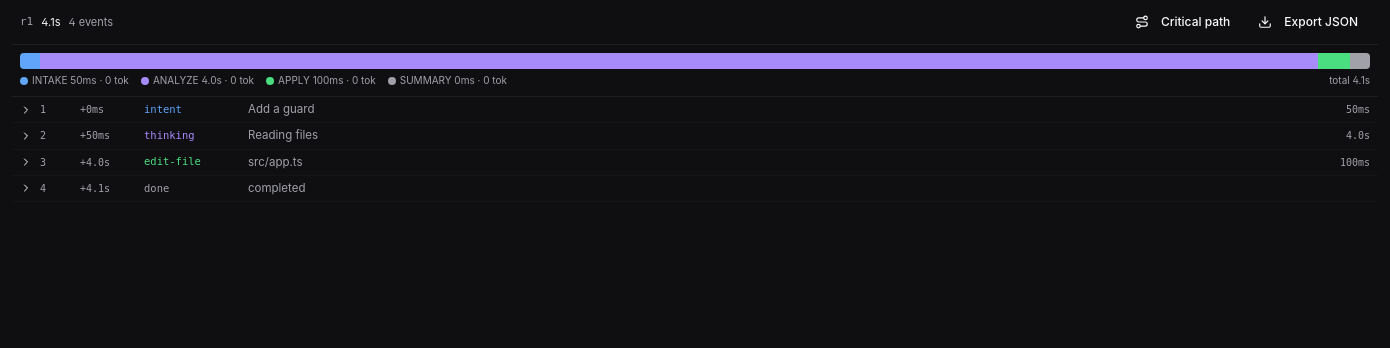
Test: RunTracePanel › expands an event to its full JSON payload
Click the text "Add a guard".
click(281, 109)  # box [248,102,314,116]
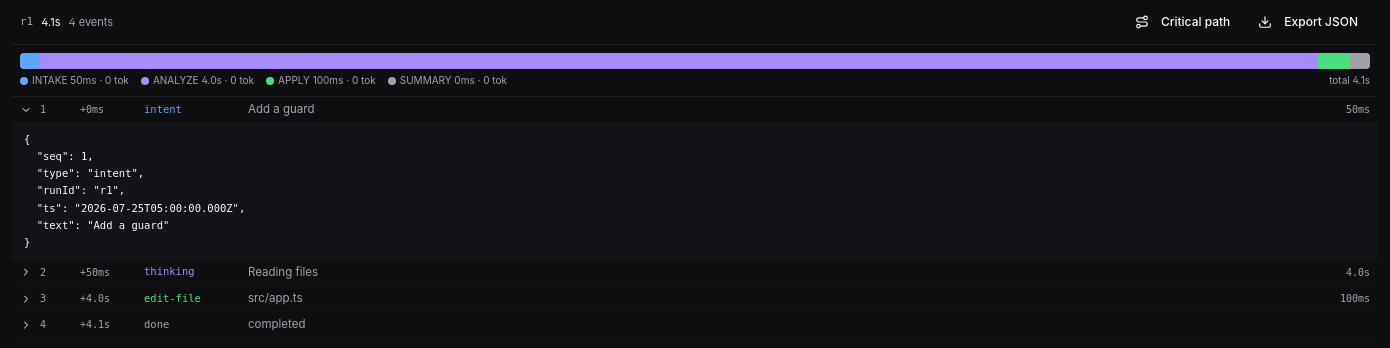
Check: the text "\"type\": \"intent\"" is shown, box [24,133,245,248]
